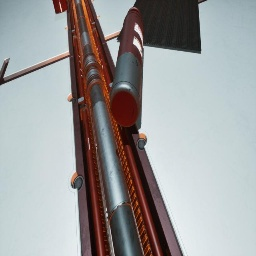FirstAidBox ,: (52, 0, 68, 13)
NitrogenTank ,: (110, 7, 144, 127)
